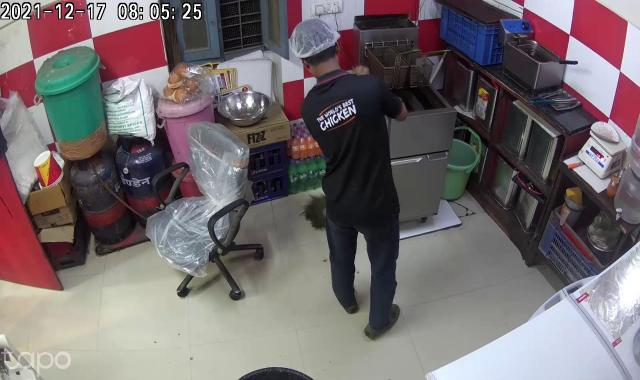hairnet: (286, 14, 344, 60)
